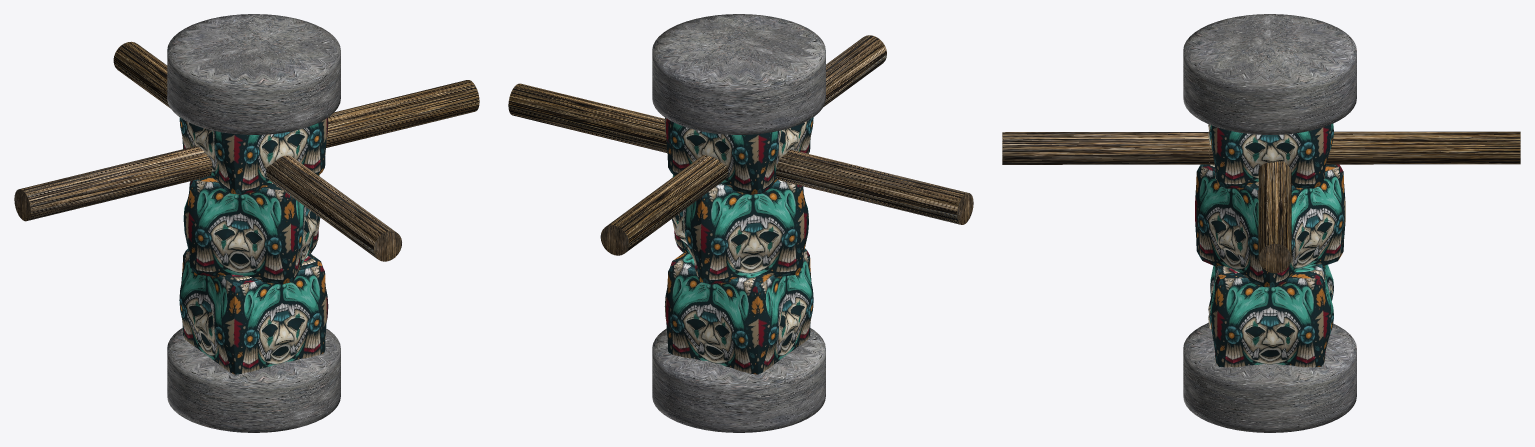
Rendered from totemV2.FBX.
3 views of the same model, side by side, from view 1: azimuth 30°, elevation 25°; view 2: azimuth 150°, elevation 25°; view 3: azimuth 270°, elevation 25° (orthographic).
Visible parts, largest first — view 1: Cone001; view 2: Cone001; view 3: Cone001.
Part boxes in pixels (x1,y1,x2,y2): Cone001: (14, 14, 479, 432); Cone001: (508, 14, 973, 432); Cone001: (1002, 14, 1520, 432).
Bounding box in the file's own units: 17.18 × 13.08 × 17.18.
Materials: 3 (3 with a texture image).
